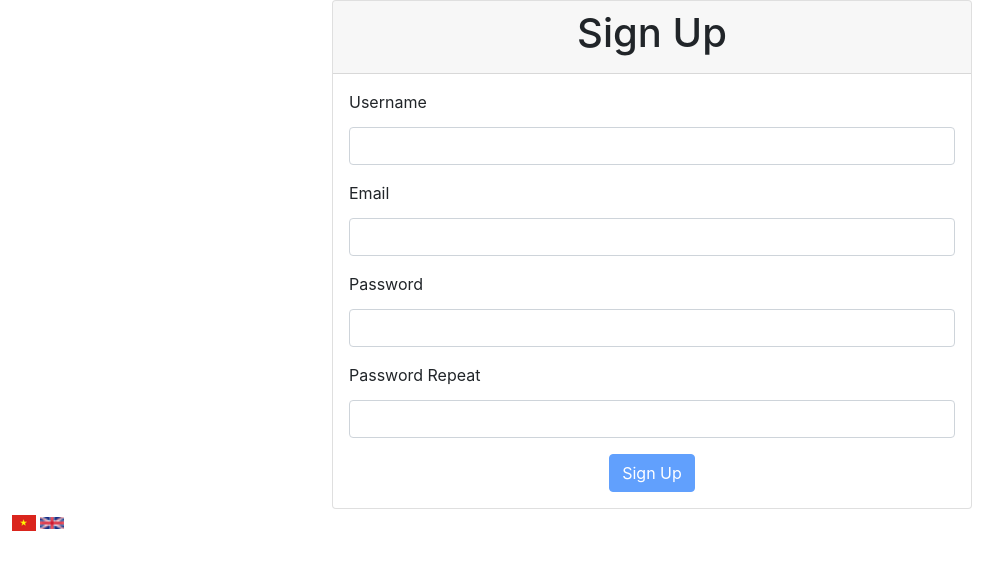
Test: Signup Page › Internationalization › Display password mismatch validation in Vietnamese
The width and height of the screenshot is (989, 572).
Type "user1" into the field labelled "Username" at (652, 146), box [349,127,955,165]
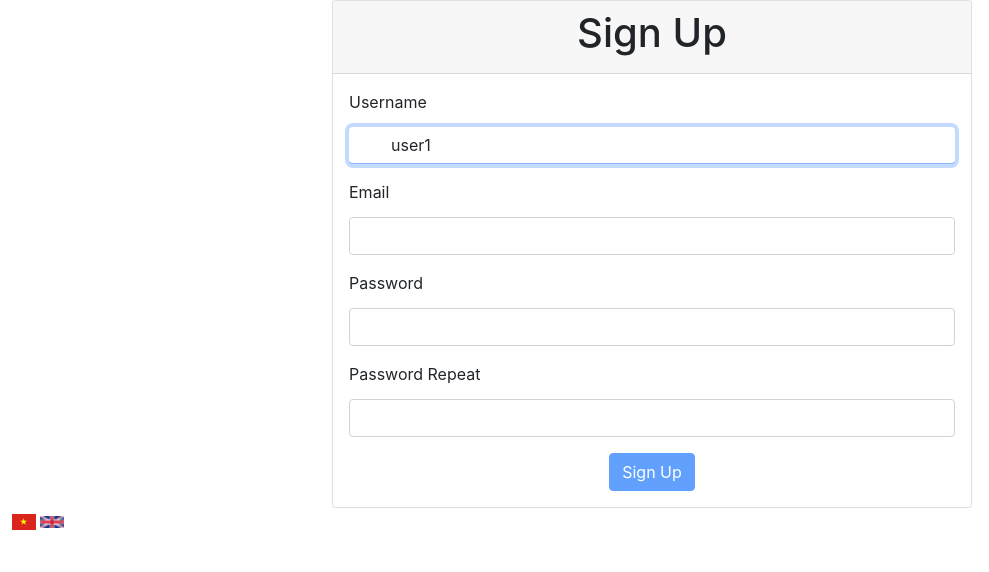
Type "user1@mail.com" into the field labelled "Email" at (652, 236), box [349,217,955,255]
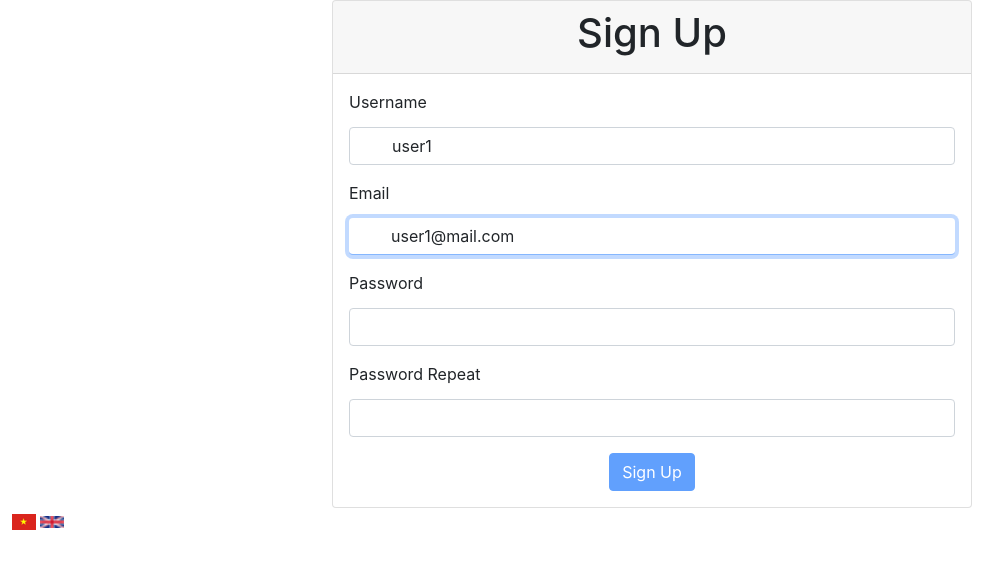
Type "Password" into the password field labelled "Password" at (652, 327), box [349,308,955,346]
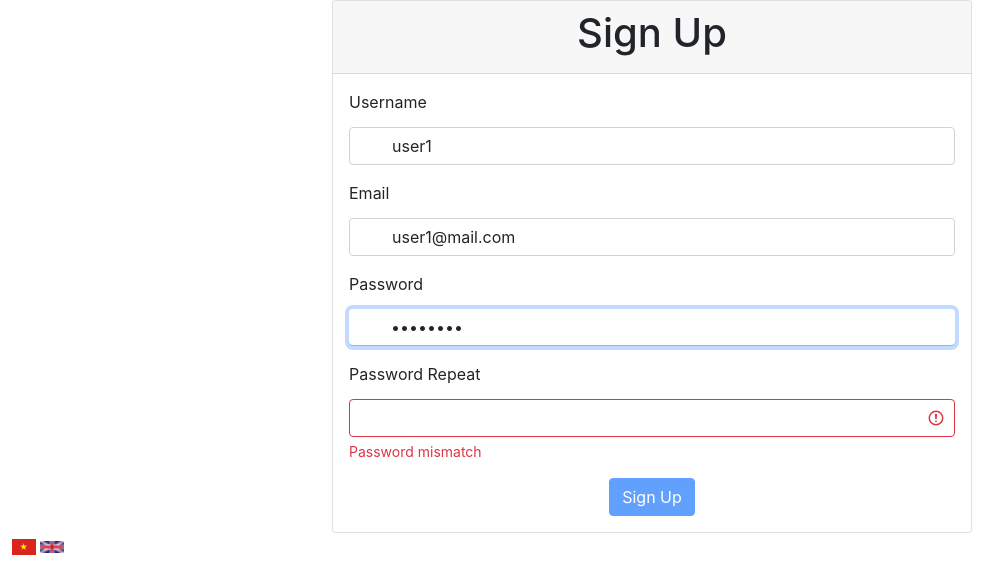
Type "Password" into the password field labelled "Password Repeat" at (652, 418), box [349,399,955,437]
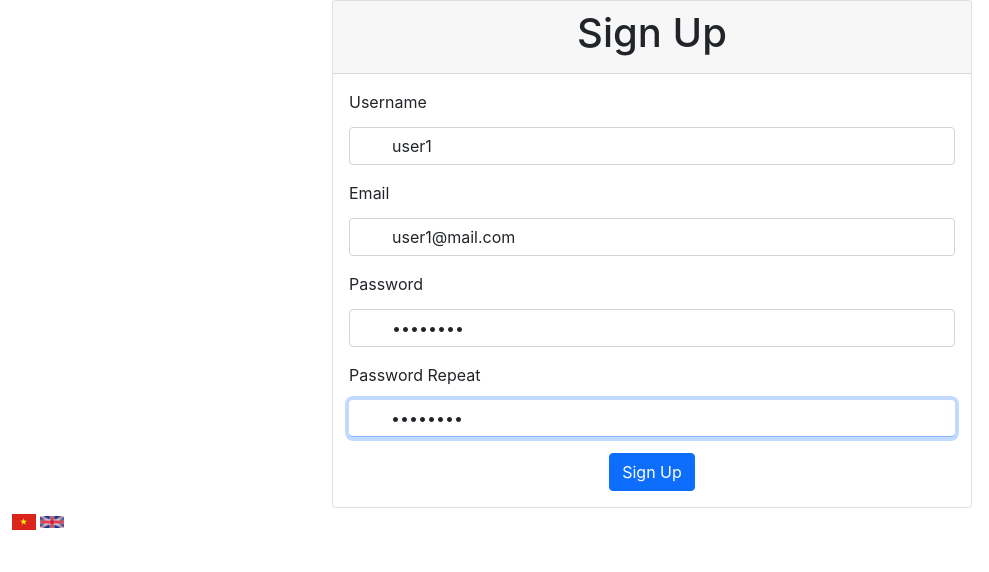
Click the picture titled "Tiếng Việt" at (24, 522), box [12,514,36,530]
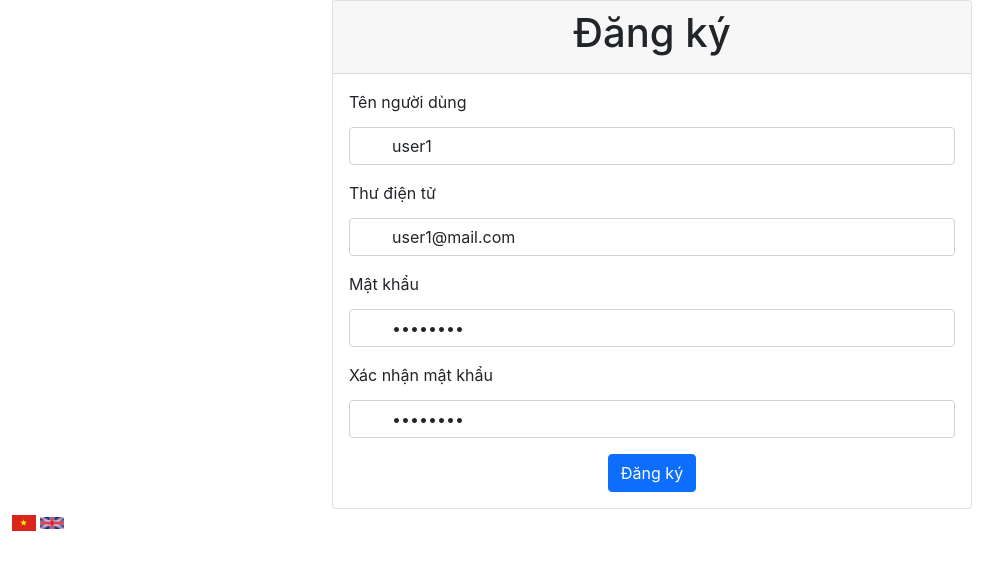
Type "1" into the password field labelled "Mật khẩu" at (652, 328), box [349,309,955,347]
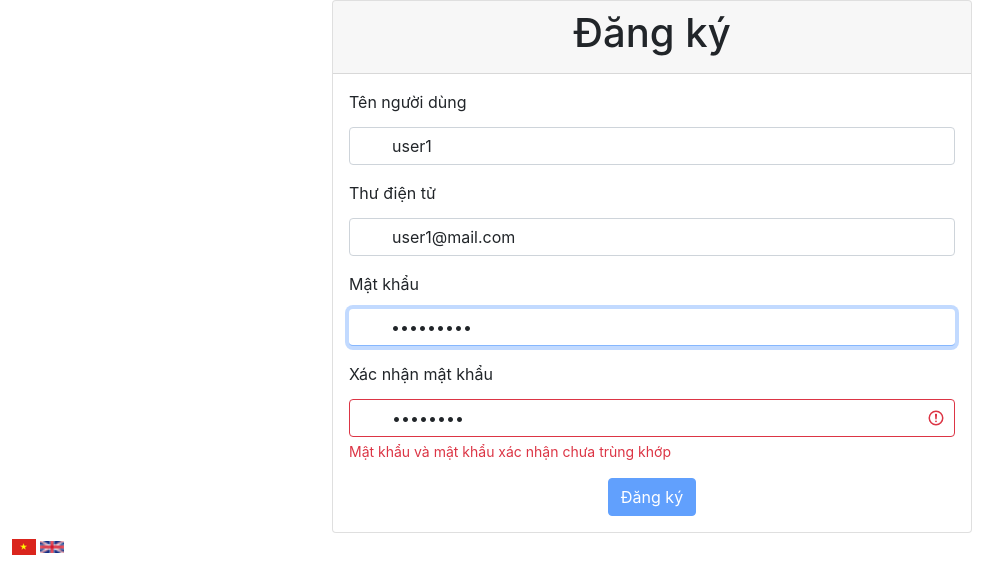
Check: the text "Mật khẩu và mật khẩu xác nhận chưa trùng khớp" is shown, box [349,443,671,460]
